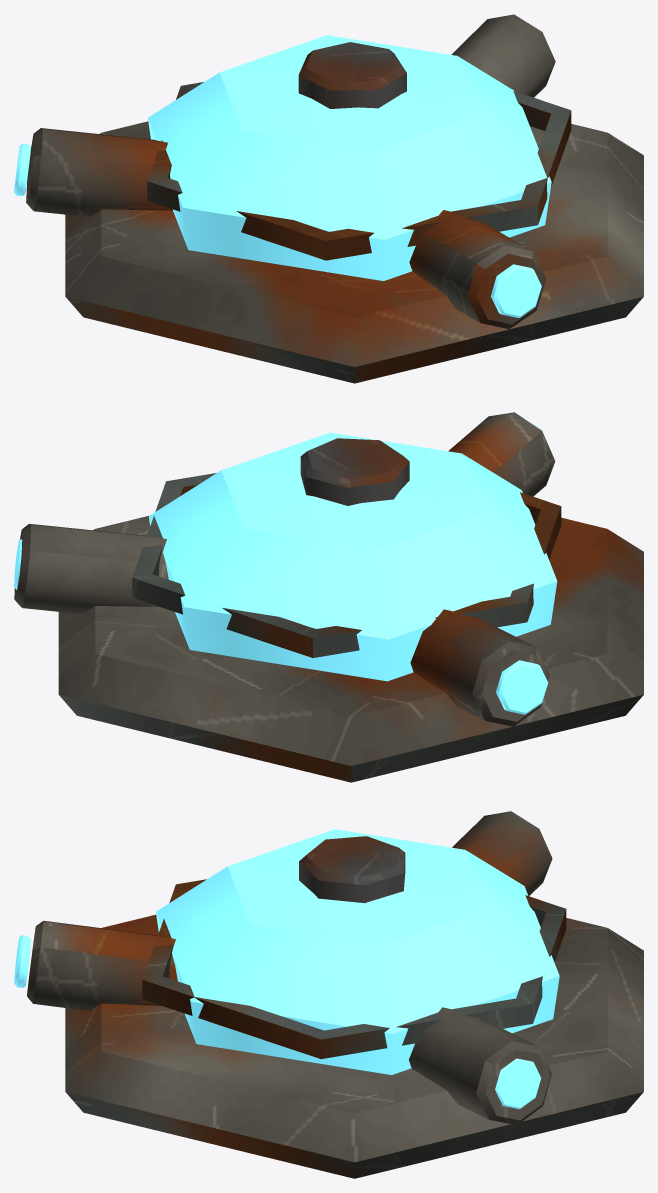
The model's file is R4D_SlowTrap_LOD1.glb.
3 views of the same model, one above another, from view 1: azimuth 30°, elevation 25°; view 2: azimuth 150°, elevation 25°; view 3: azimuth 270°, elevation 25° (orthographic).
Visible parts, largest first — view 1: R4D_SlowTrap_LOD1; view 2: R4D_SlowTrap_LOD1; view 3: R4D_SlowTrap_LOD1.
Boxes of the visible parts, box(x1,y1,x2,y2) form: R4D_SlowTrap_LOD1: box(14, 14, 643, 383); R4D_SlowTrap_LOD1: box(14, 412, 643, 782); R4D_SlowTrap_LOD1: box(14, 811, 643, 1178).
Bounding box in the file's own units: 0.48 × 0.15 × 0.4526.
5 materials, 4 textured.
